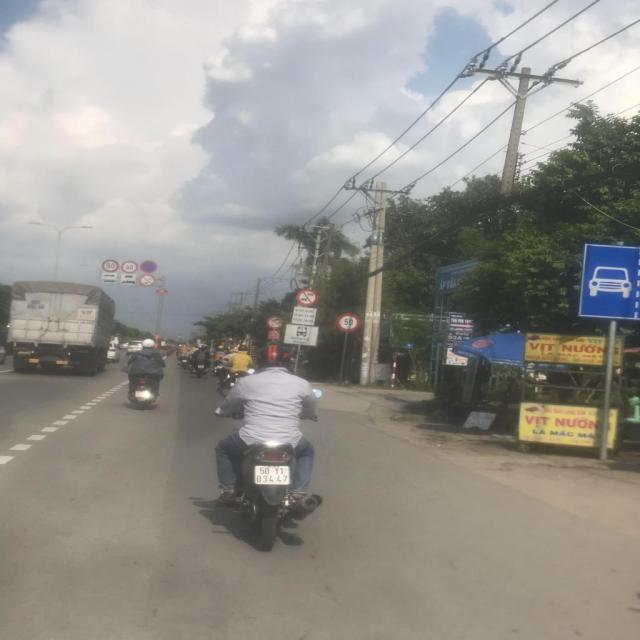107-cam-oto-khach-va-oto-tai: (297, 289, 319, 307)
127-toc-do-toi-da-50: (334, 312, 361, 332)
127-toc-do-toi-da-60: (122, 260, 138, 272)
127-toc-do-toi-da-80: (101, 259, 119, 273)
